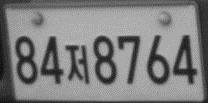4: (171, 33, 198, 84), (39, 34, 64, 85)
6: (145, 34, 170, 84)
7: (117, 34, 142, 84)
8: (92, 34, 116, 84), (14, 35, 38, 84)
저: (64, 44, 90, 84)
